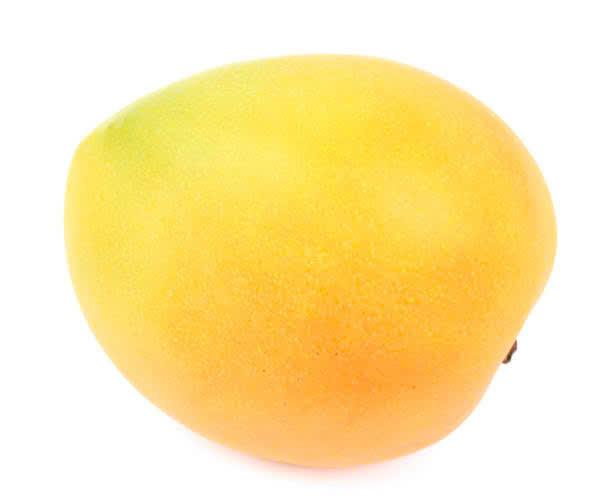mango: (64, 29, 536, 475)
